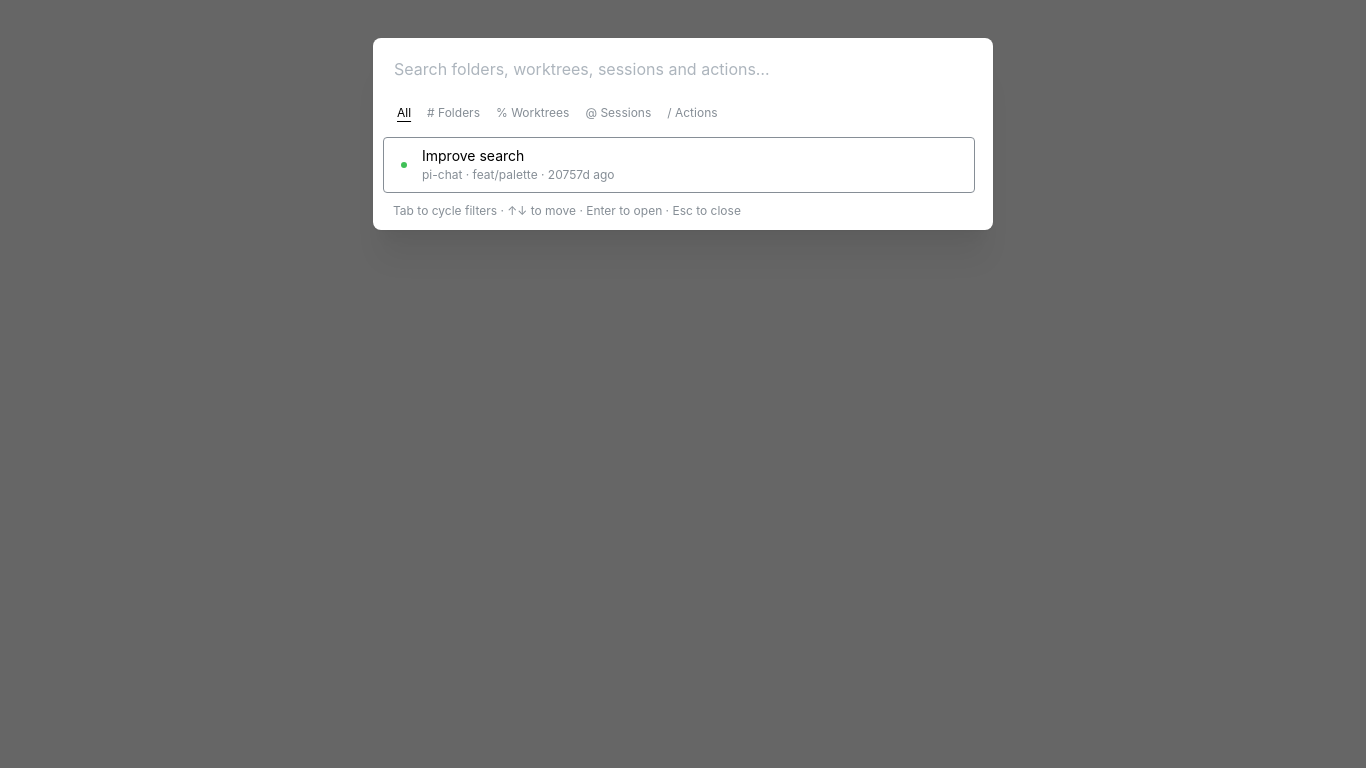
Test case: identifies each type by icon and accessible name without visible right-hand labels
expect the picture named "Ready" is shown: met, box [401,162,407,168]
Click the button "# Folders" at (454, 114), box [421,100,486,127]
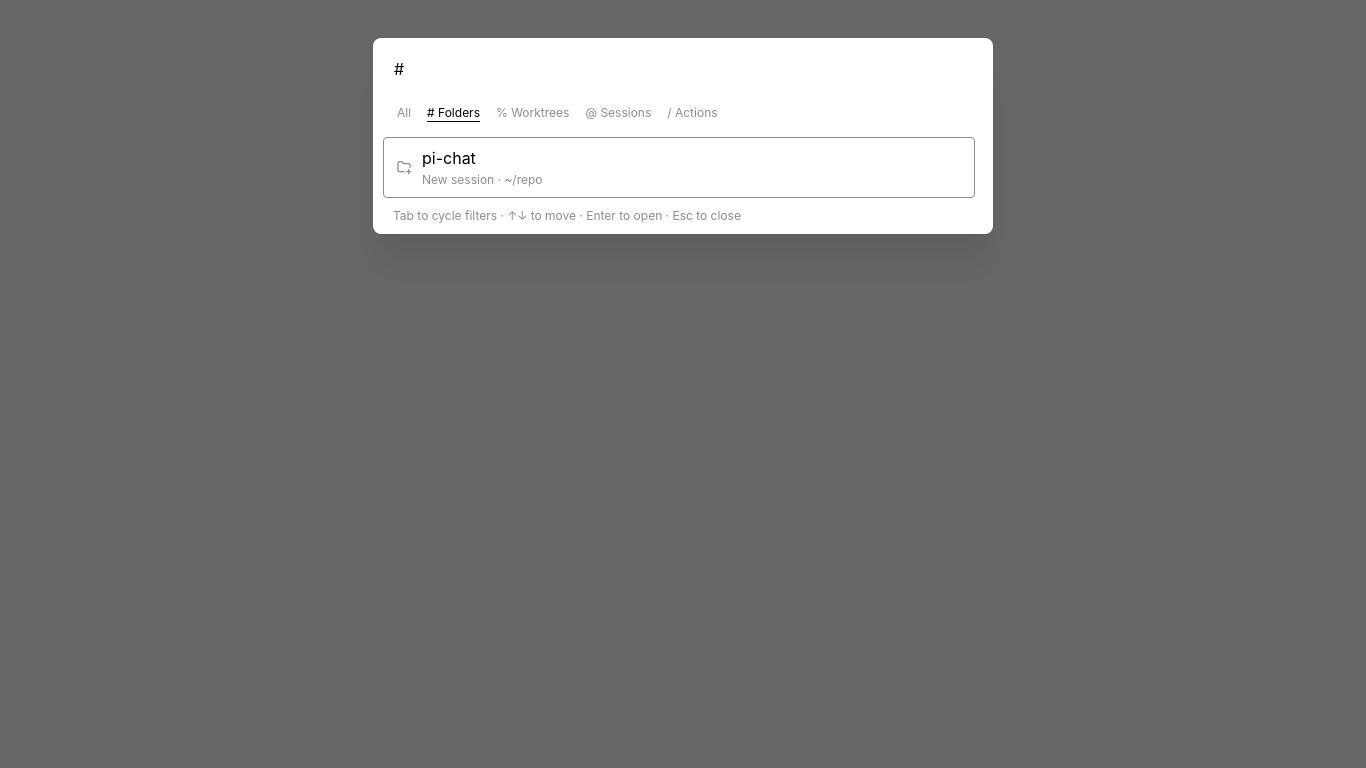
expect the icon with class "tabler-icon-folder-plus" is shown: met, box [396,159,412,175]
Click the button "% Worktrees" at (533, 114), box [490,100,575,127]
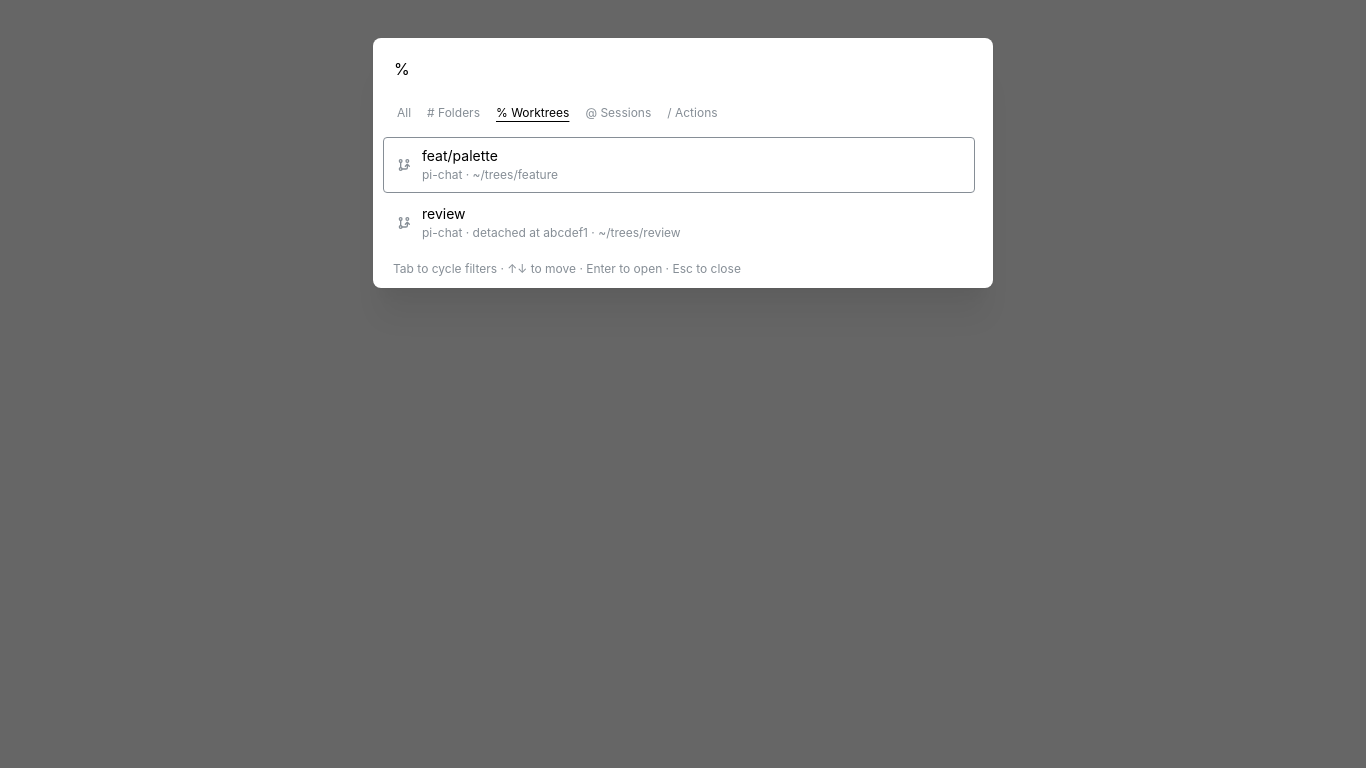
expect the 1st icon with class "tabler-icon-git-branch" is shown: met, box [396,157,412,173]
expect the option "review pi-chat · detached at abcdef1 · ~/trees/review" is shown: met, box [383,195,975,251]
